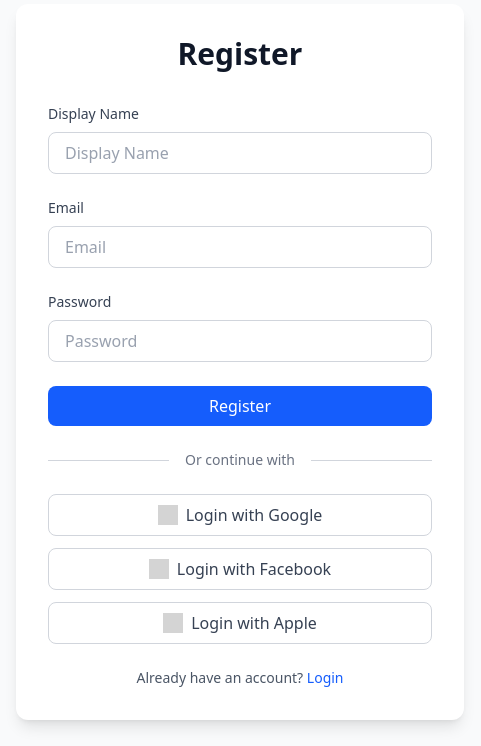
Scenario: Register Page › should show validation errors for empty fields
Click the submit button. click: (240, 406)
box: top-left (48, 386), bottom-right (432, 426)
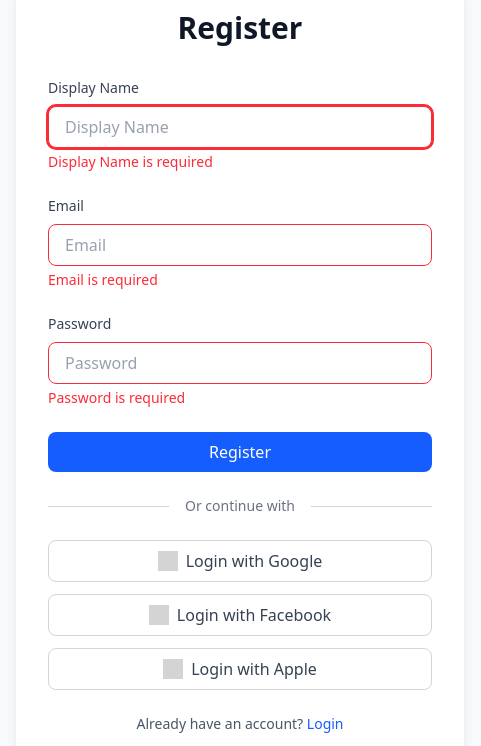
Check: the text "Display Name is required" is shown, box top-left (48, 152), bottom-right (213, 171)
Check: the text "Email is required" is shown, box top-left (48, 270), bottom-right (158, 289)
Check: the text "Password is required" is shown, box top-left (48, 388), bottom-right (185, 407)
